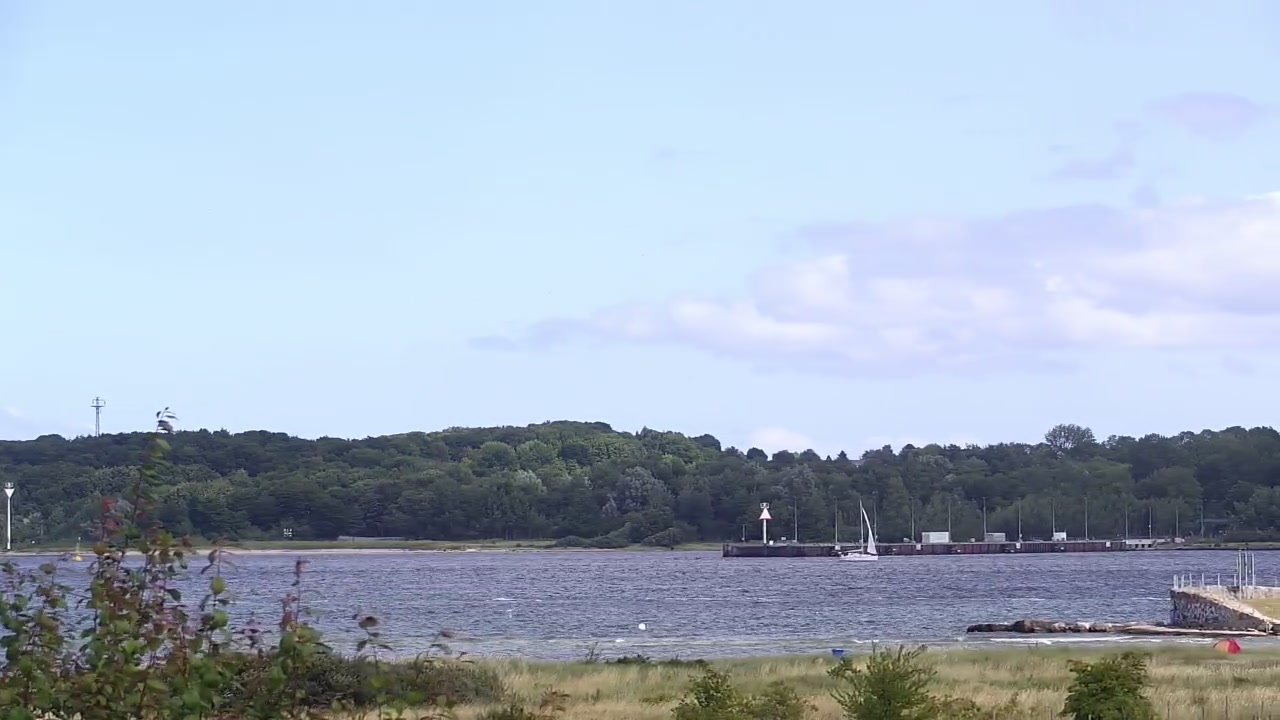sea: (838, 498, 879, 560)
